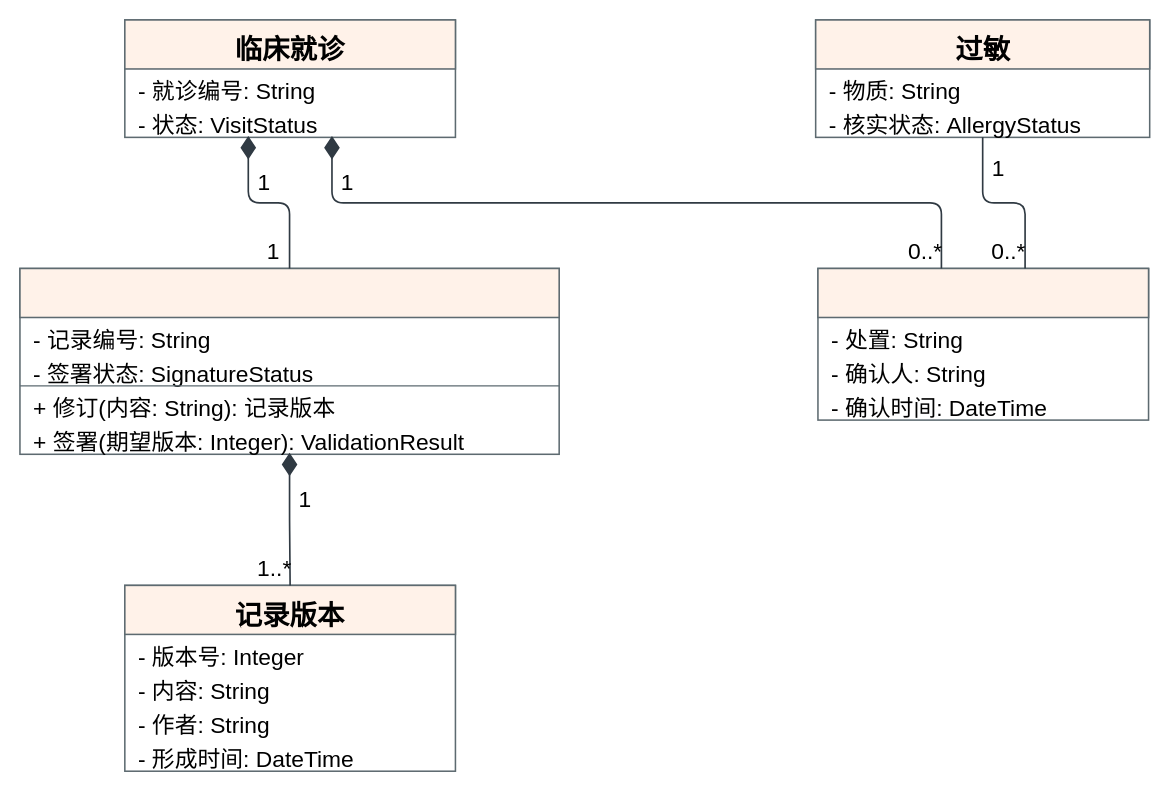
Some shapes in this 1171 by 793 pixel diagram are drawn without their labels. The centre of each missing label's shape, as x and y in pixels:
"临床记录" goes at point 289,292.
"过敏确认" goes at point 983,292.
